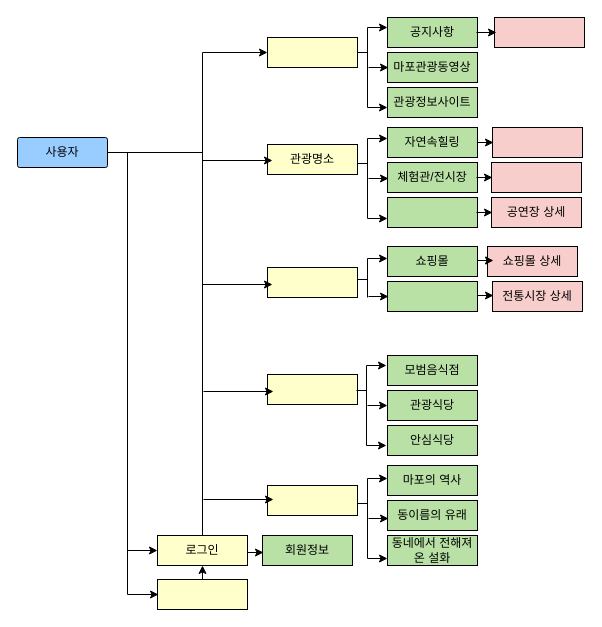
Some shapes in this 602 by 627 pixel diagram are drawn without their labels. Each missing label, with the box of its shape:
공연장: (386, 196, 478, 228)
공지사항 상세: (494, 16, 584, 48)
관광안내: (266, 36, 358, 68)
쇼핑: (266, 266, 358, 298)
역사: (266, 484, 358, 516)
음식: (266, 374, 358, 404)
자연속힐링 상세: (492, 126, 582, 158)
전통시장: (386, 280, 478, 312)
체험관/전시장 상세: (490, 162, 582, 192)
회원가입: (156, 578, 248, 610)
